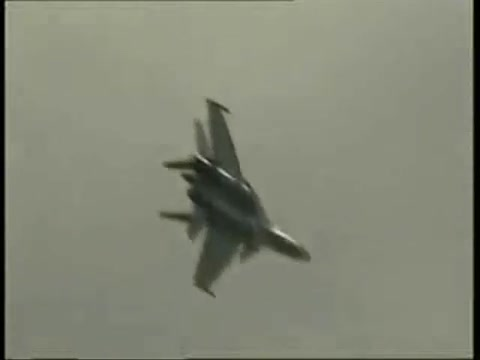aeroplane: (158, 99, 313, 299)
